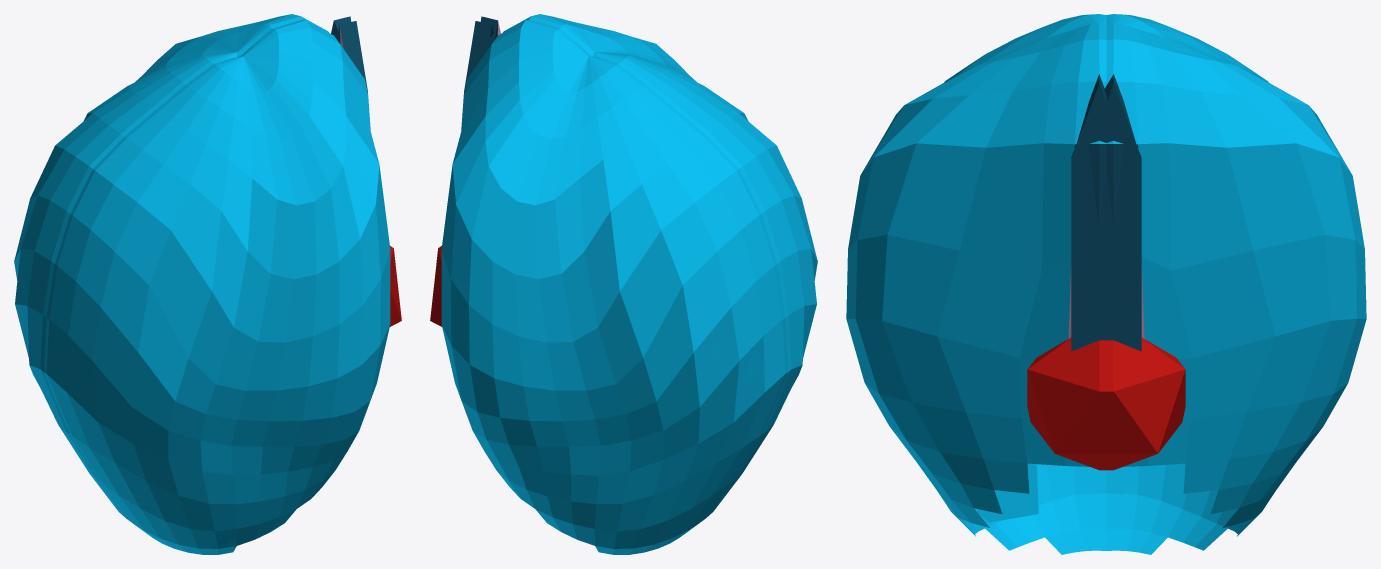
The model's file is WizardHat.glb.
The picture shows the model from 3 angles, left to right: view 1: azimuth 30°, elevation 25°; view 2: azimuth 150°, elevation 25°; view 3: azimuth 270°, elevation 25°; orthographic projection. The views are drawn at different scales.
Visible parts, largest first — view 1: wizard.001; view 2: wizard.001; view 3: wizard.001.
Part boxes in pixels (box(x1,y1,x2,y2)): wizard.001: box(14, 14, 401, 554); wizard.001: box(430, 14, 817, 554); wizard.001: box(846, 14, 1366, 554).
Bounding box in the file's own units: 0.2258 × 0.3034 × 0.2426.
Materials: 1 (1 with a texture image).
